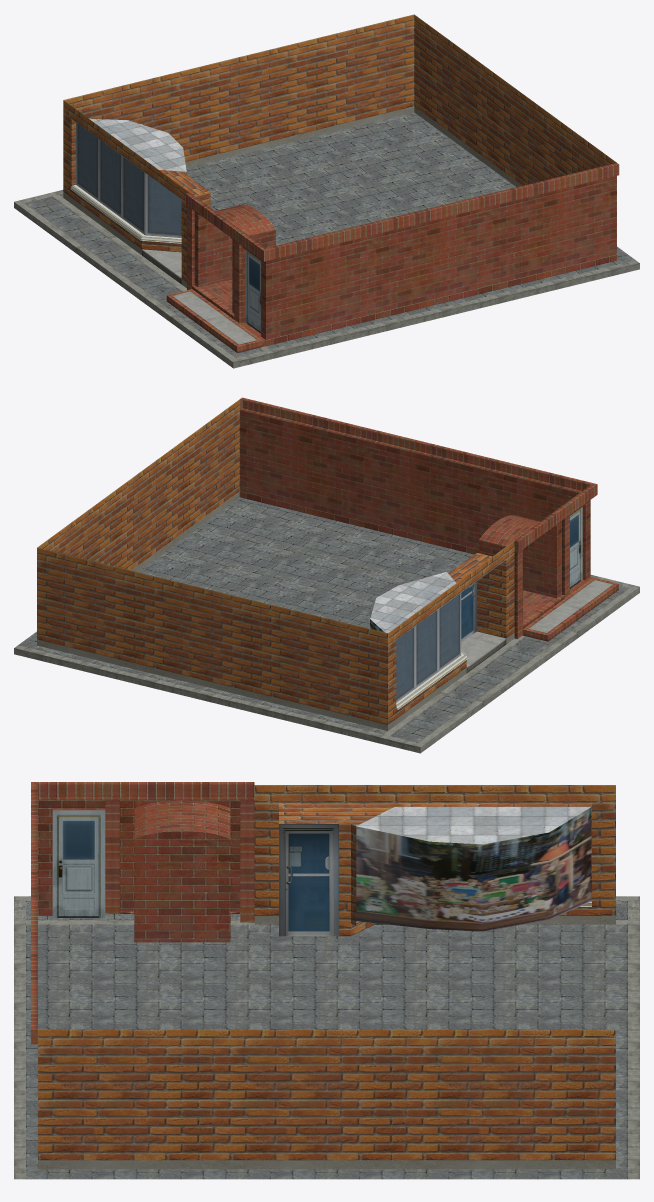
Rendered from MHouseJ_Base.fbx.
The picture shows the model from 3 angles, top to bottom: view 1: azimuth 30°, elevation 25°; view 2: azimuth 150°, elevation 25°; view 3: azimuth 270°, elevation 25°; orthographic projection. The views are drawn at different scales.
Visible parts, largest first — view 1: ct2_03_n1_ks2_MhouseBaseJ_01; view 2: ct2_03_n1_ks2_MhouseBaseJ_01; view 3: ct2_03_n1_ks2_MhouseBaseJ_01.
Boxes of the visible parts, x1,y1,x2,y2 form: ct2_03_n1_ks2_MhouseBaseJ_01: (14, 14, 639, 368); ct2_03_n1_ks2_MhouseBaseJ_01: (14, 397, 639, 753); ct2_03_n1_ks2_MhouseBaseJ_01: (14, 782, 639, 1179).
Size of the model in its own units: 1529 by 374 by 1430.
